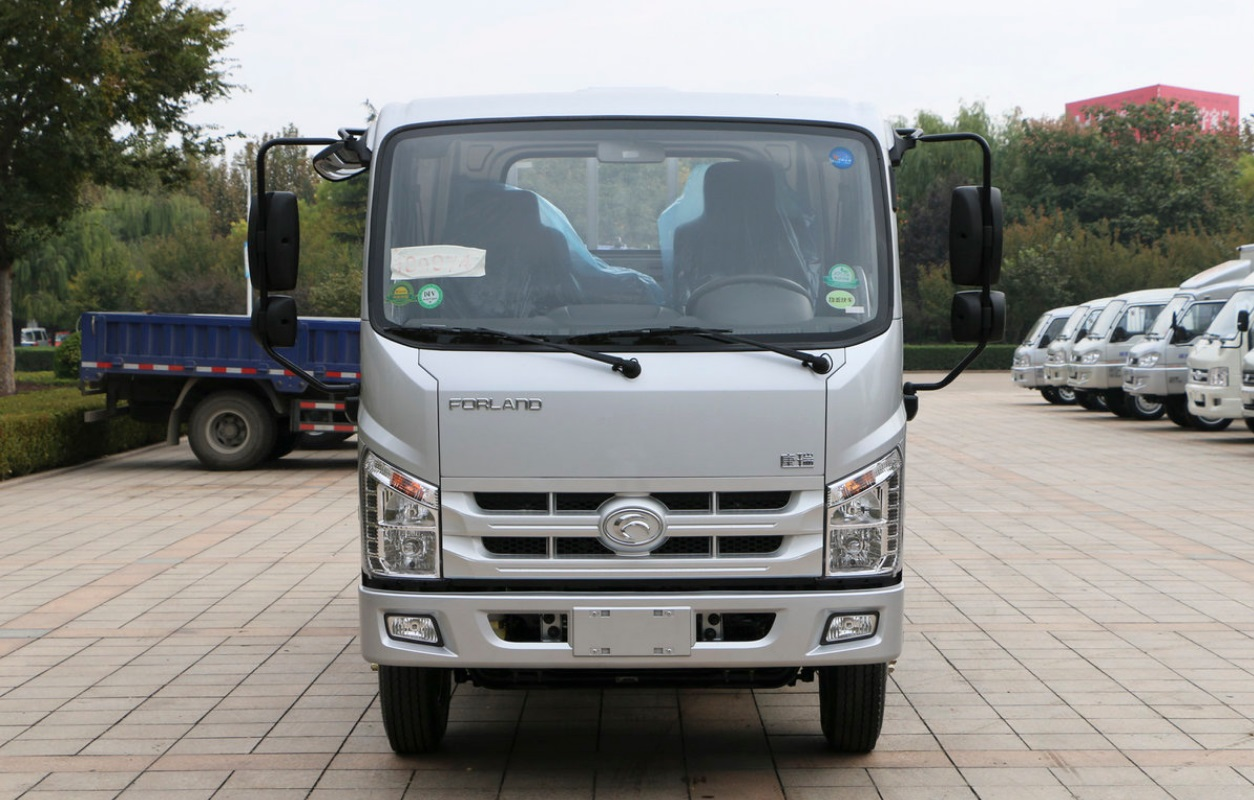truck: (245, 87, 1015, 766)
